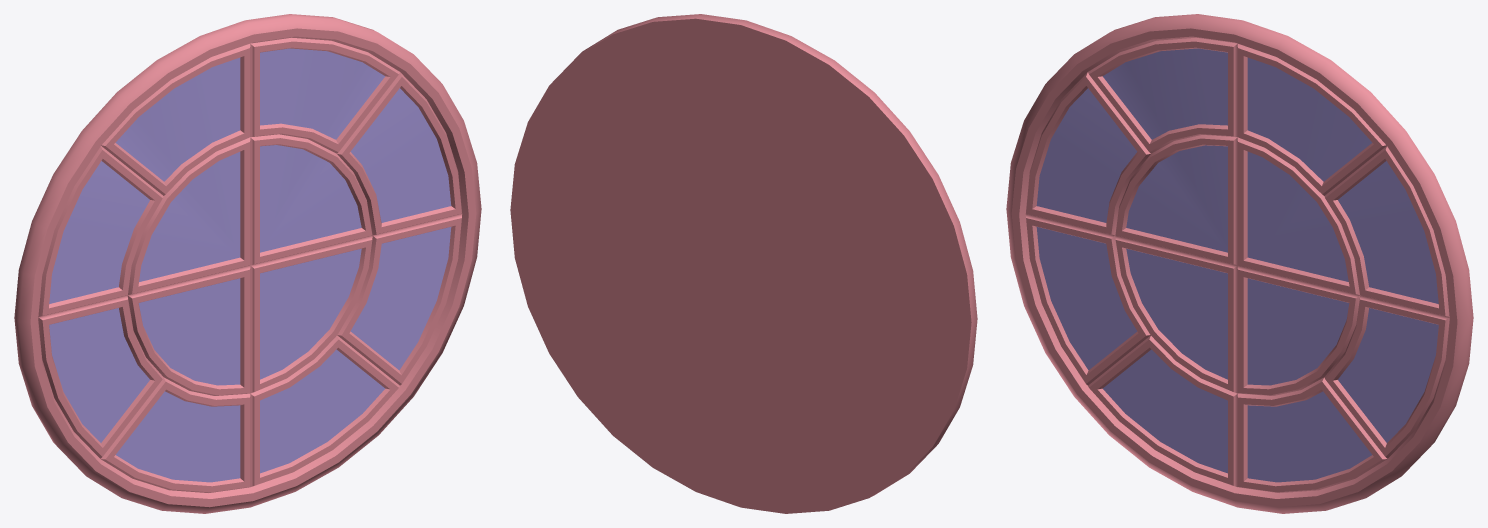
File: SP_House06_Window03.fbx
3 renders of one model, left to right at view 1: azimuth 30°, elevation 25°; view 2: azimuth 150°, elevation 25°; view 3: azimuth 330°, elevation 25°, orthographic.
Visible parts, largest first — view 1: SP_House06_Window03; view 2: SP_House06_Window03; view 3: SP_House06_Window03.
Boxes of the visible parts, x1,y1,x2,y2 form: SP_House06_Window03: (14,14,481,513); SP_House06_Window03: (510,14,977,513); SP_House06_Window03: (1006,14,1473,513).
Bounding box in the file's own units: 1.65 × 1.65 × 0.0522.
